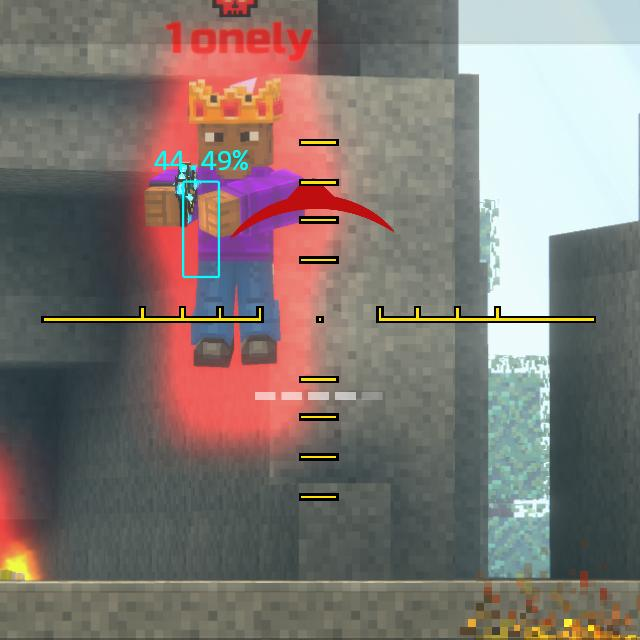Enemy: (140, 98, 300, 374)
